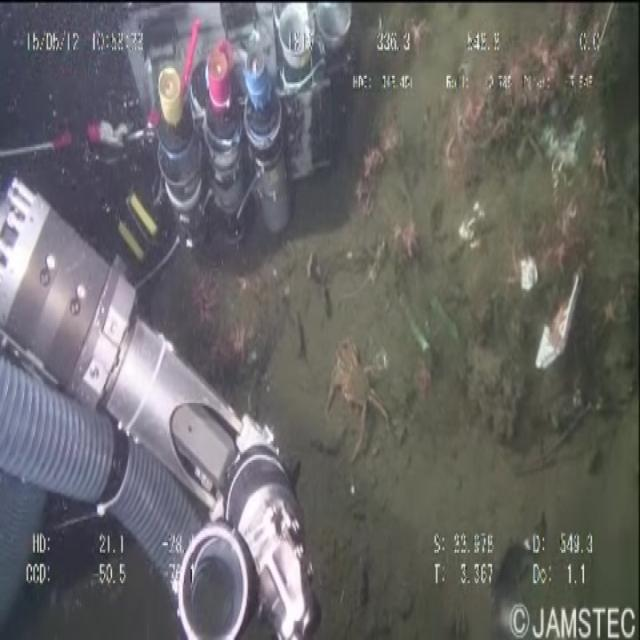Litter: (528, 270, 590, 383)
Natual-Debris: (315, 319, 415, 486)
